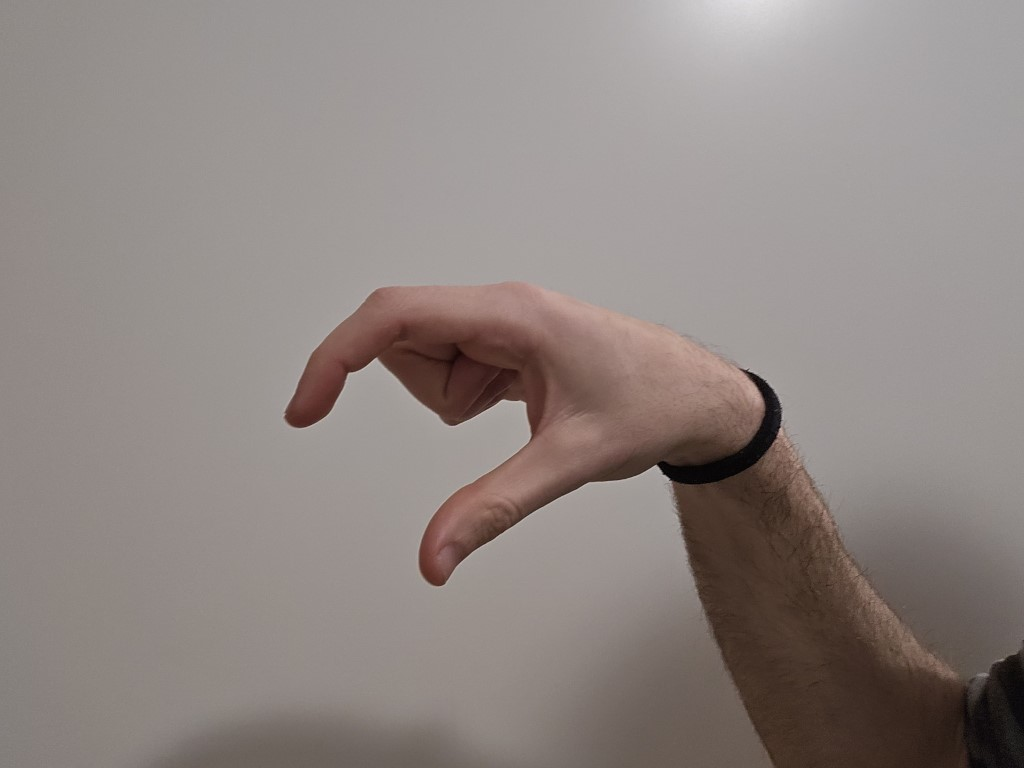q: (241, 260, 676, 605)
